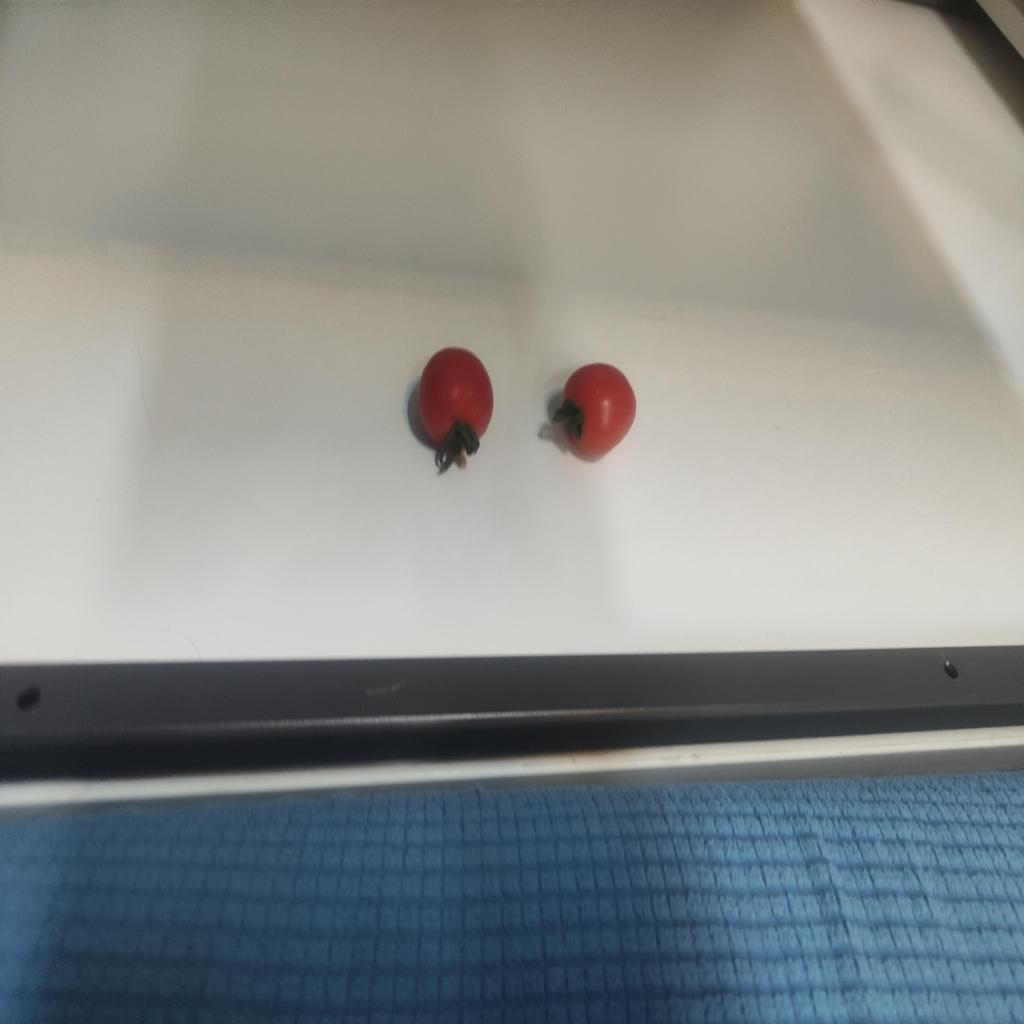tomato: (416, 337, 496, 466), (547, 350, 637, 457)
